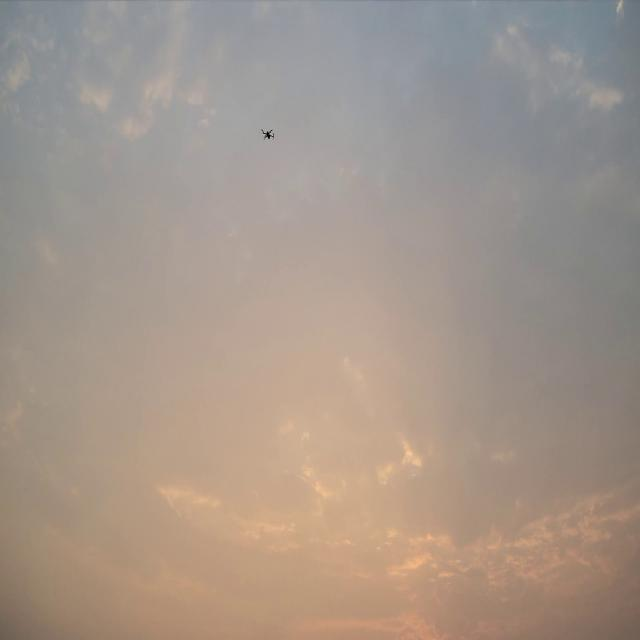UAV: (261, 128, 274, 140)
